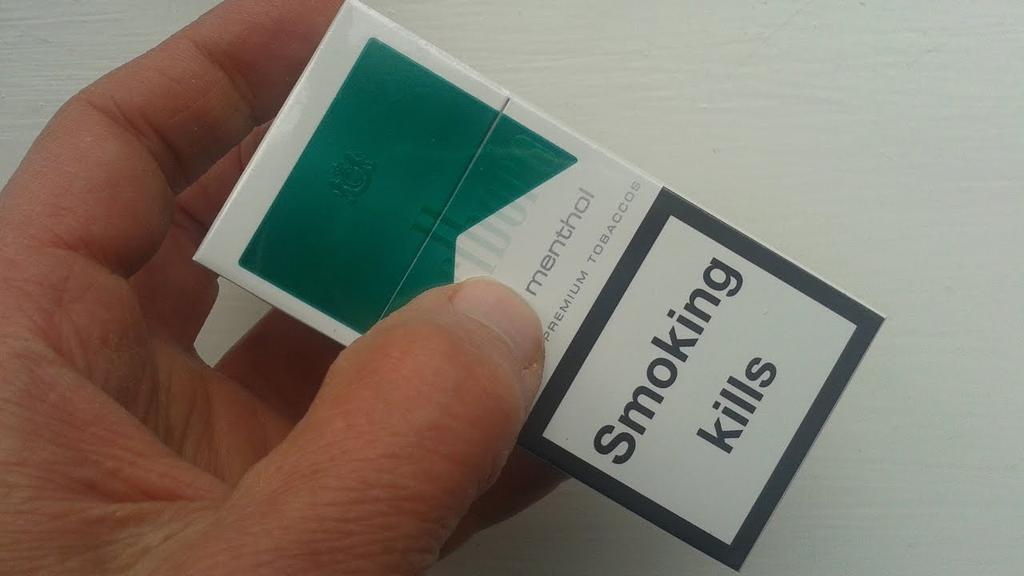marlboro_mentol: (224, 79, 860, 432)
